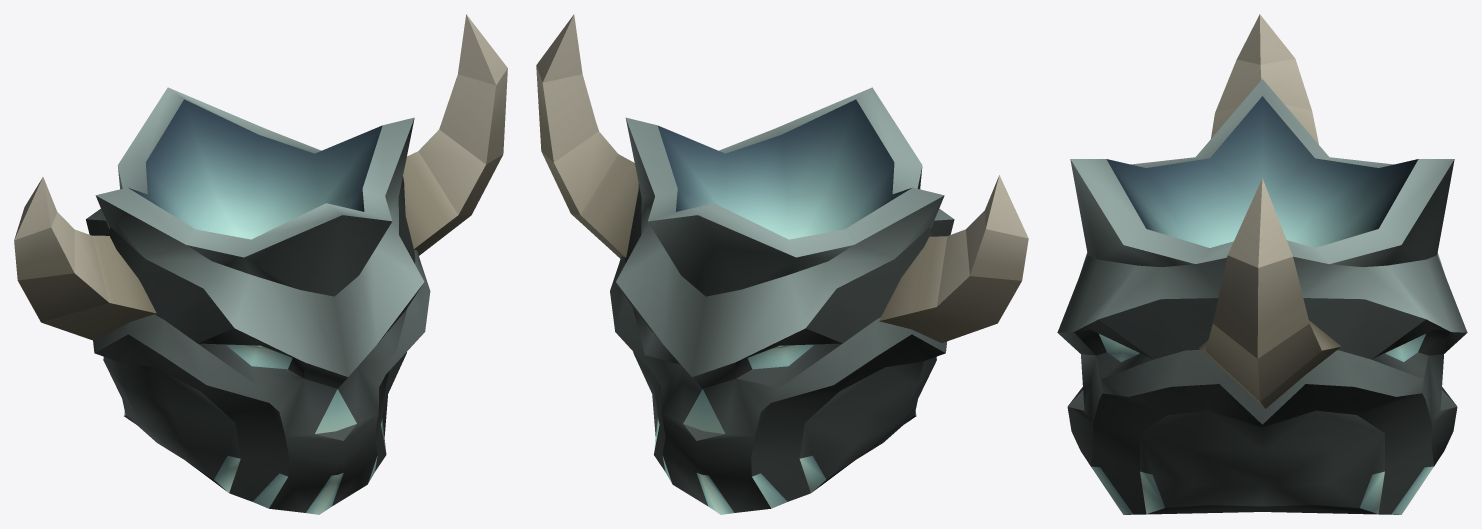
File: orc_head_lantern_horned.fbx
3 views of the same model, side by side, from view 1: azimuth 30°, elevation 25°; view 2: azimuth 150°, elevation 25°; view 3: azimuth 270°, elevation 25° (orthographic). The views are drawn at different scales.
Visible parts, largest first — view 1: orc_head_lantern_horned; view 2: orc_head_lantern_horned; view 3: orc_head_lantern_horned.
Boxes of the visible parts, <box> form: orc_head_lantern_horned: <box>14,14,507,514</box>; orc_head_lantern_horned: <box>536,14,1028,514</box>; orc_head_lantern_horned: <box>1057,14,1467,514</box>.
Size of the model in its own units: 329 by 257 by 215.
